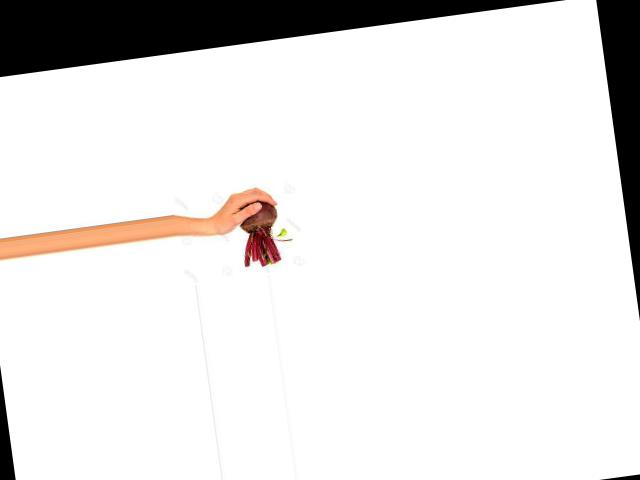beet: (237, 196, 296, 268)
